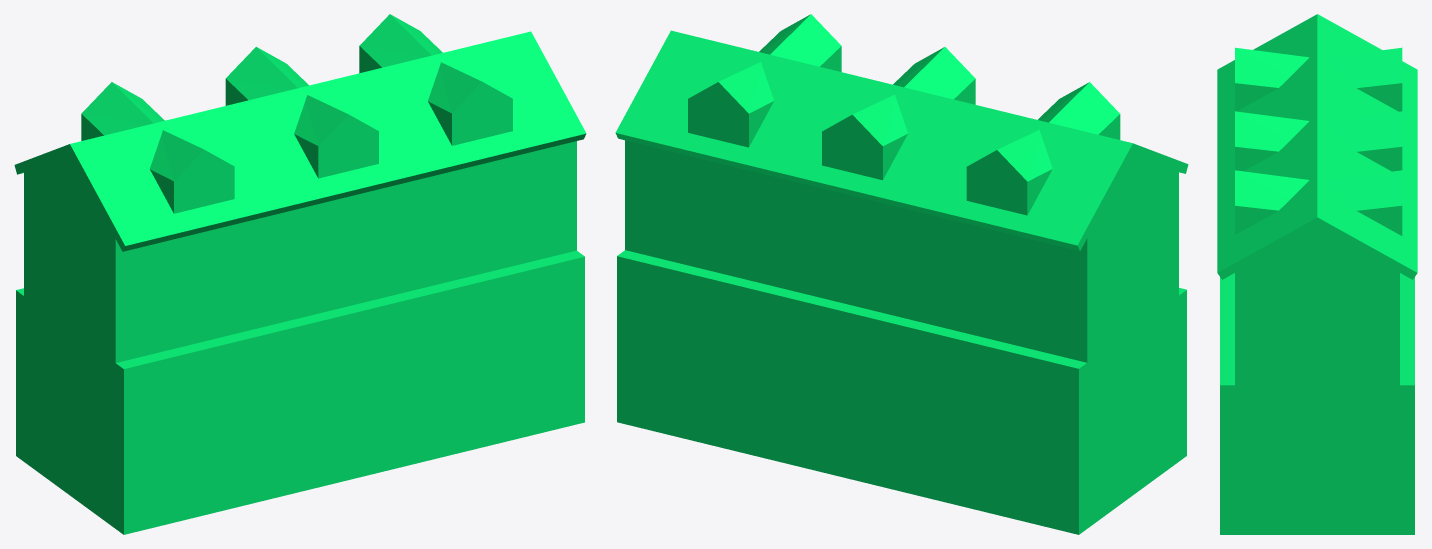
Rendered from Garnison4_Collision.FBX.
3 views of the same model, side by side, from view 1: azimuth 30°, elevation 25°; view 2: azimuth 150°, elevation 25°; view 3: azimuth 270°, elevation 25° (orthographic). The views are drawn at different scales.
Parts seen in each view (by area): view 1: Garnison4_Collision; view 2: Garnison4_Collision; view 3: Garnison4_Collision.
Boxes of the visible parts, x1,y1,x2,y2 form: Garnison4_Collision: (14,14,586,534); Garnison4_Collision: (615,14,1188,534); Garnison4_Collision: (1217,14,1417,534).
Bounding box in the file's own units: 17.96 × 13.3 × 7.47.
